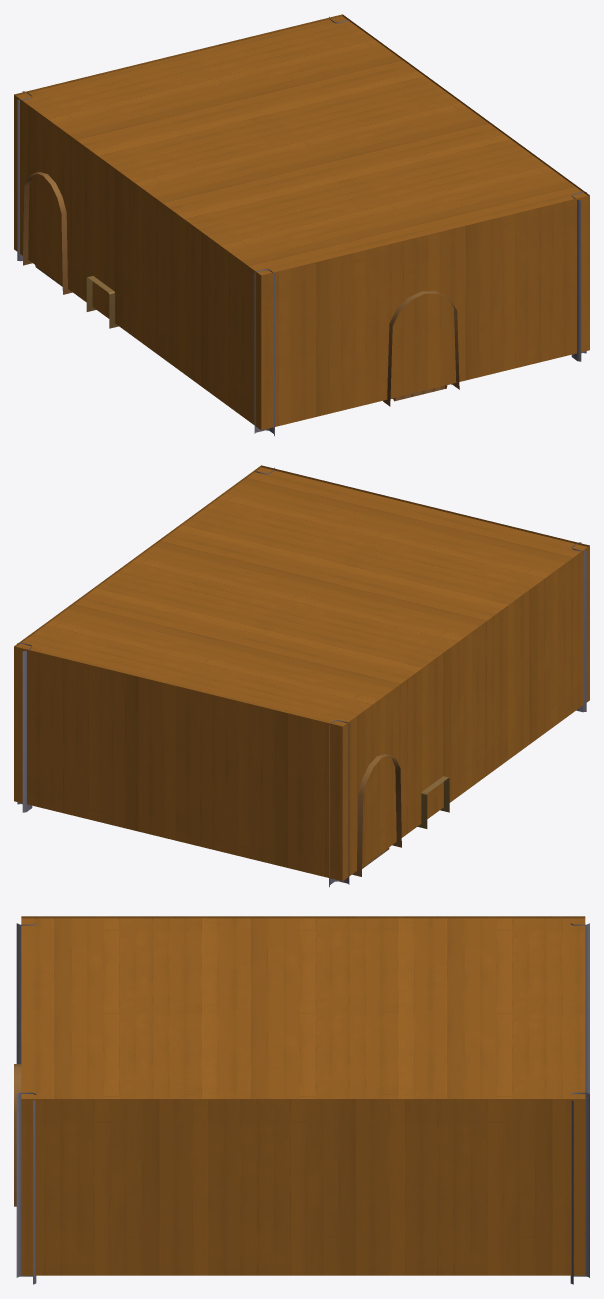
The model's file is in_shop_asset.fbx.
The picture shows the model from 3 angles, top to bottom: view 1: azimuth 30°, elevation 25°; view 2: azimuth 150°, elevation 25°; view 3: azimuth 270°, elevation 25°; orthographic projection. The views are drawn at different scales.
Visible parts, largest first — view 1: shop.001, asset_aquarium8.001, door.002, door.001, Cube; view 2: shop.001, asset_aquarium8.001, door.002, Cube; view 3: shop.001, asset_aquarium8.001, door.001.
Boxes of the visible parts, x1,y1,x2,y2 form: shop.001: (14, 14, 589, 430); asset_aquarium8.001: (17, 16, 586, 436); door.002: (23, 172, 72, 294); door.001: (383, 291, 459, 406); Cube: (86, 276, 118, 328); shop.001: (14, 465, 589, 881); asset_aquarium8.001: (17, 467, 586, 887); door.002: (352, 754, 401, 876); Cube: (417, 776, 449, 828); shop.001: (21, 916, 585, 1275); asset_aquarium8.001: (16, 917, 589, 1284); door.001: (14, 1064, 21, 1206).
Bounding box in the file's own units: 974 × 449 × 1268.
3 materials, 3 textured.
